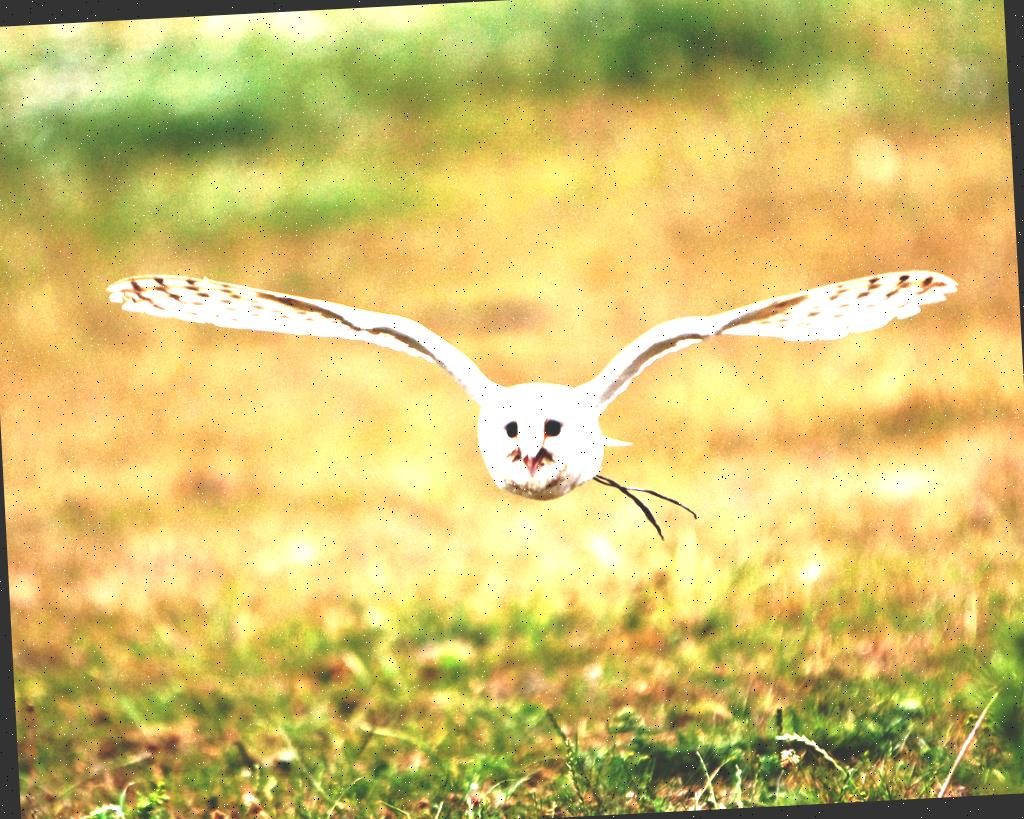Owl: (106, 230, 968, 570)
